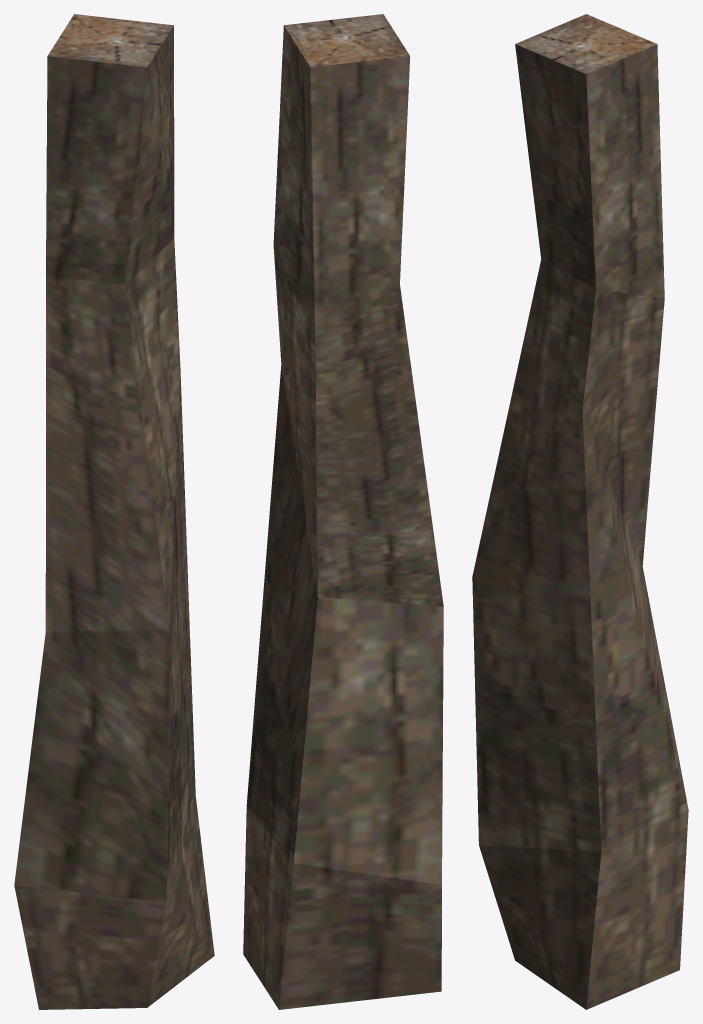
The model's file is wooden_fence_pole_alt_2.fbx.
The picture shows the model from 3 angles, left to right: view 1: azimuth 30°, elevation 25°; view 2: azimuth 150°, elevation 25°; view 3: azimuth 270°, elevation 25°; orthographic projection. The views are drawn at different scales.
Parts seen in each view (by area): view 1: wooden_fence_pole_alt_2; view 2: wooden_fence_pole_alt_2; view 3: wooden_fence_pole_alt_2.
Part boxes in pixels (x1=…): wooden_fence_pole_alt_2: x1=14, y1=14, x2=214, y2=1009; wooden_fence_pole_alt_2: x1=243, y1=14, x2=443, y2=1009; wooden_fence_pole_alt_2: x1=472, y1=14, x2=688, y2=1009.
Size of the model in its own units: 26.64 by 120 by 25.64.
1 material, 1 textured.
